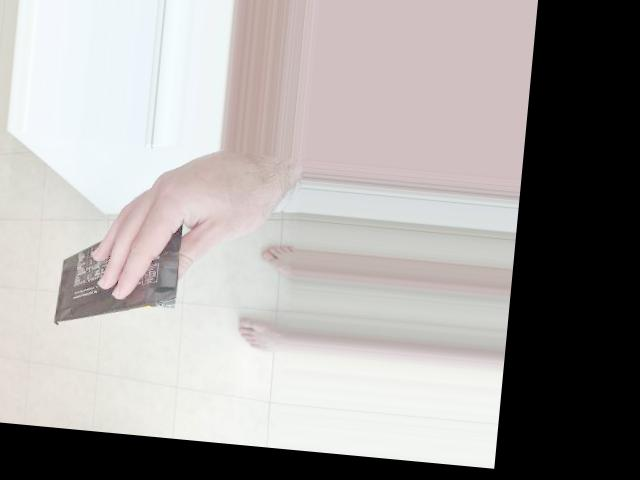chocolate: (44, 192, 189, 337)
